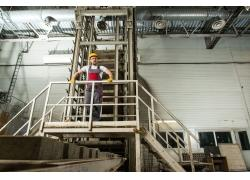helmet: (90, 53, 99, 59)
